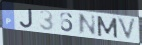3: (39, 8, 55, 32)
6: (59, 12, 74, 34)
J: (19, 8, 34, 29)
M: (95, 15, 119, 39)
N: (77, 13, 97, 36)
V: (116, 16, 138, 43)
